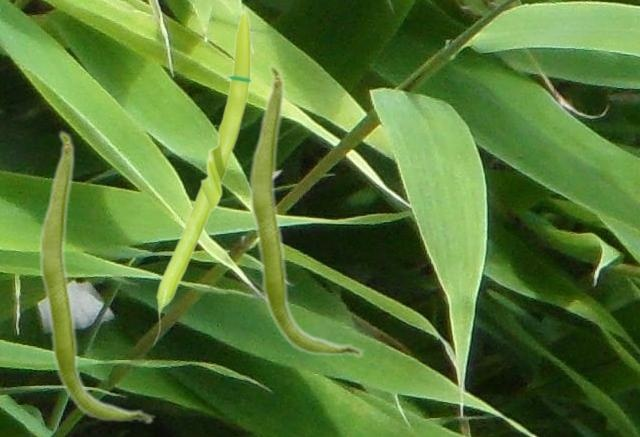french_bean: (152, 3, 254, 346), (37, 129, 154, 424), (247, 63, 364, 358)
